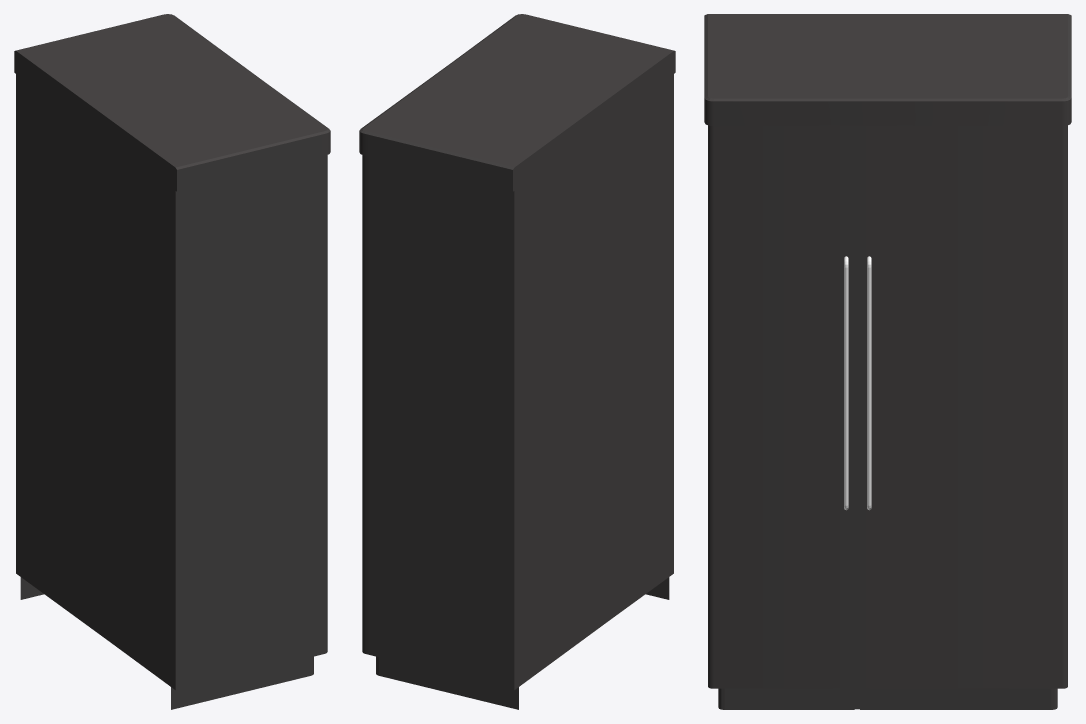
Rendered from Kitchen_Fridge.FBX.
The picture shows the model from 3 angles, left to right: view 1: azimuth 30°, elevation 25°; view 2: azimuth 150°, elevation 25°; view 3: azimuth 270°, elevation 25°; orthographic projection. The views are drawn at different scales.
Visible parts, largest first — view 1: fridge; view 2: fridge; view 3: fridge.
Part boxes in pixels (x1=…): fridge: x1=14, y1=14, x2=330, y2=709; fridge: x1=359, y1=14, x2=675, y2=709; fridge: x1=704, y1=14, x2=1071, y2=709.
Bounding box in the file's own units: 0.6838 × 2.23 × 1.2.
